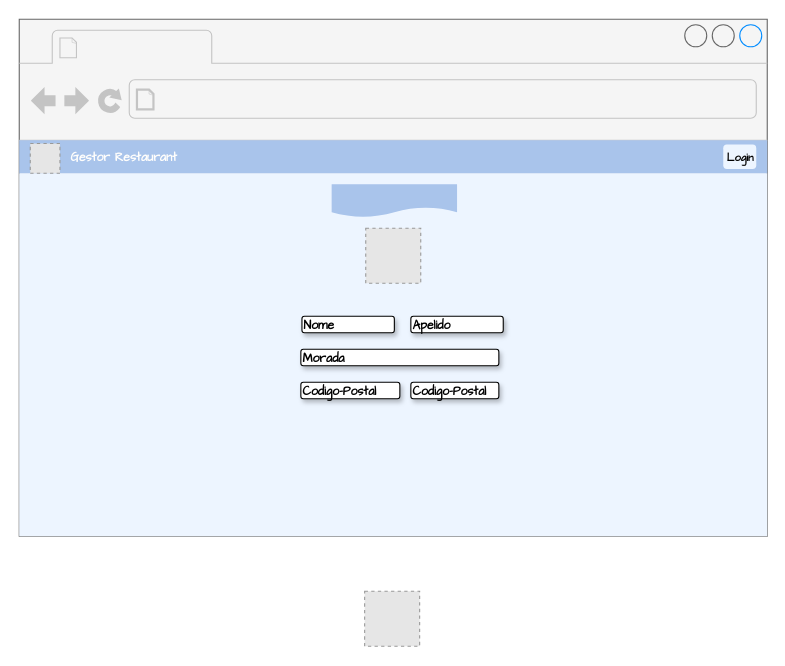
This 785x666 diagram has some shape labels left out. Grey dashed boxes stand in for pictures. The centre of each missing label's shape, as x and y in pixels:
GRestaurante: the point at 145,46
https://www.gtrestaurante.com: the point at 299,99
Registo: the point at 394,200
